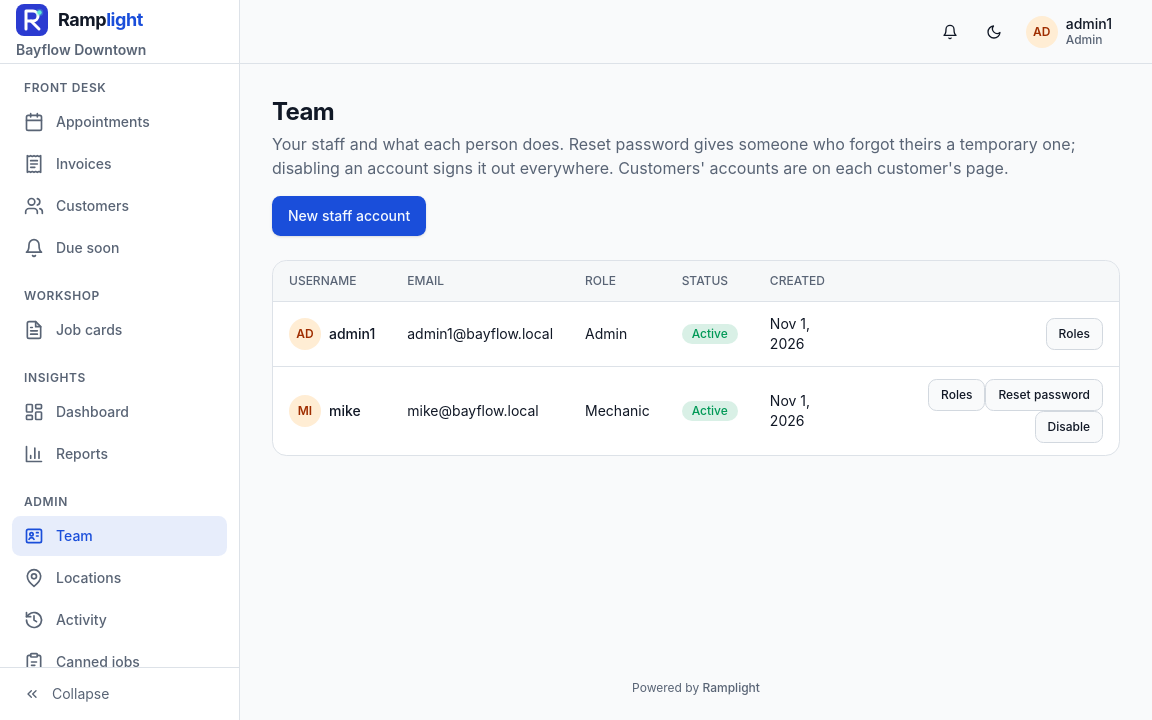
password resets › an admin resets a mechanic's password and sees the temporary one once
Click the button with aria-label "Reset password for mike" at (1044, 394), box [985,378,1103,410]
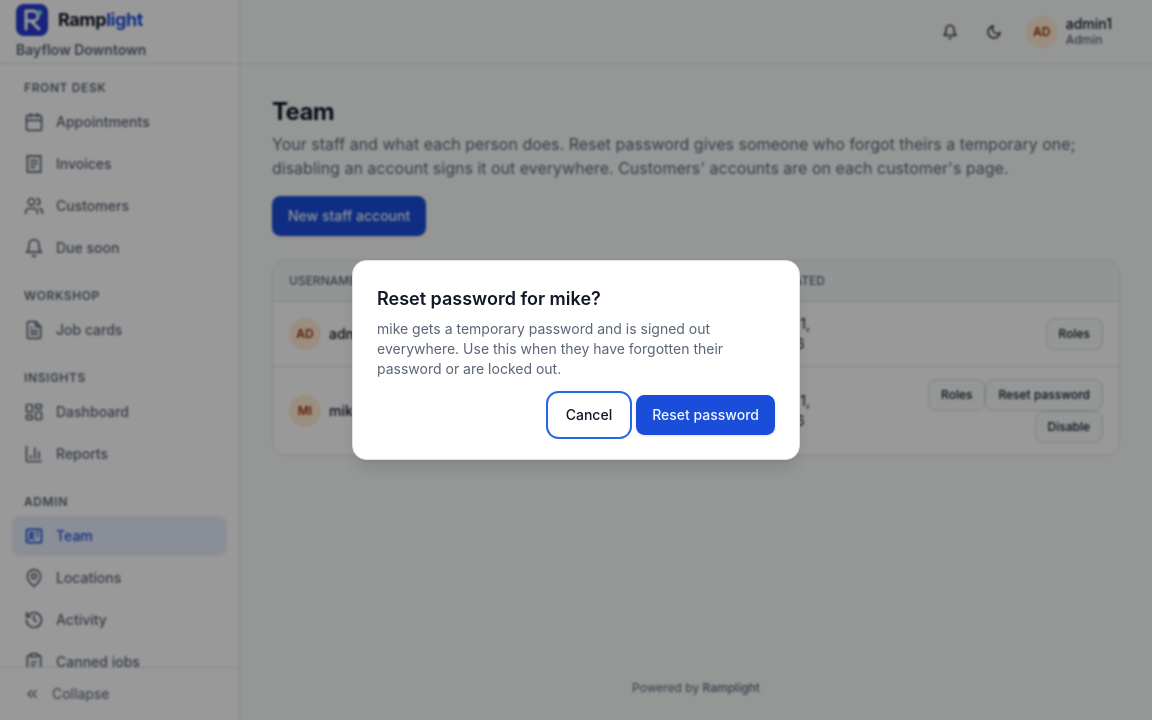
Click the button "Reset password" at (706, 415), box [636,395,775,435]
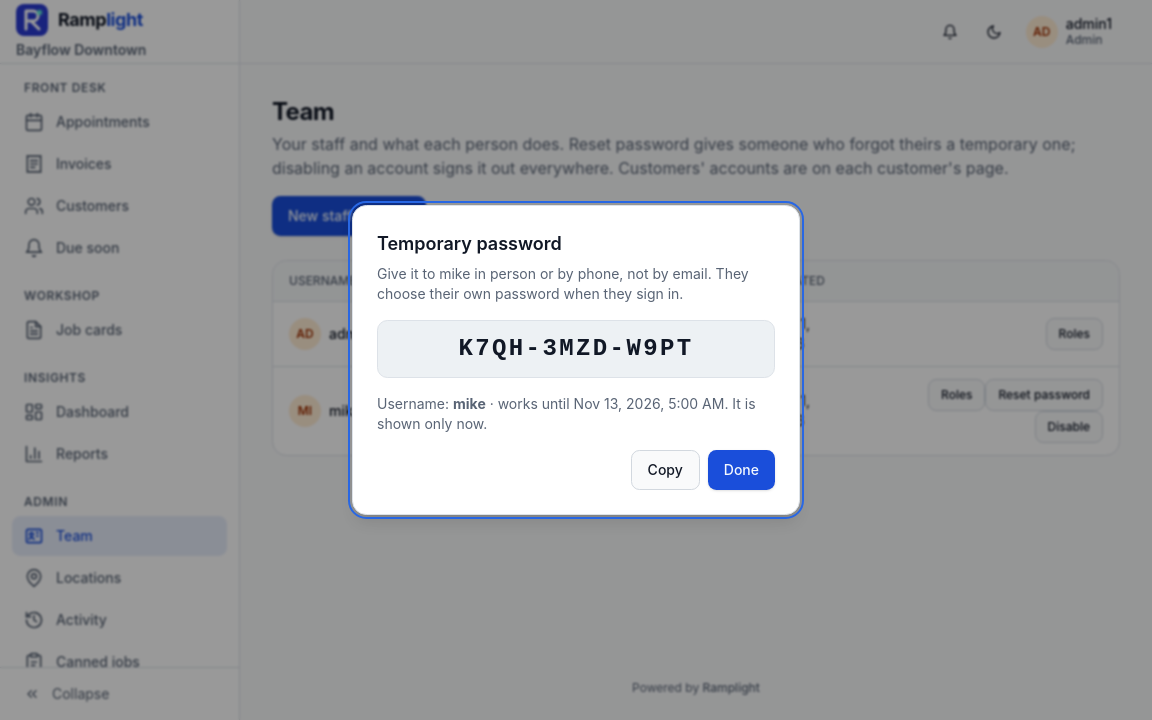
Now the text with test id "temporary-password" reads "K7QH-3MZD-W9PT", box [458,335,694,362]
Click the button "Done" at (741, 470), box [708,450,775,490]
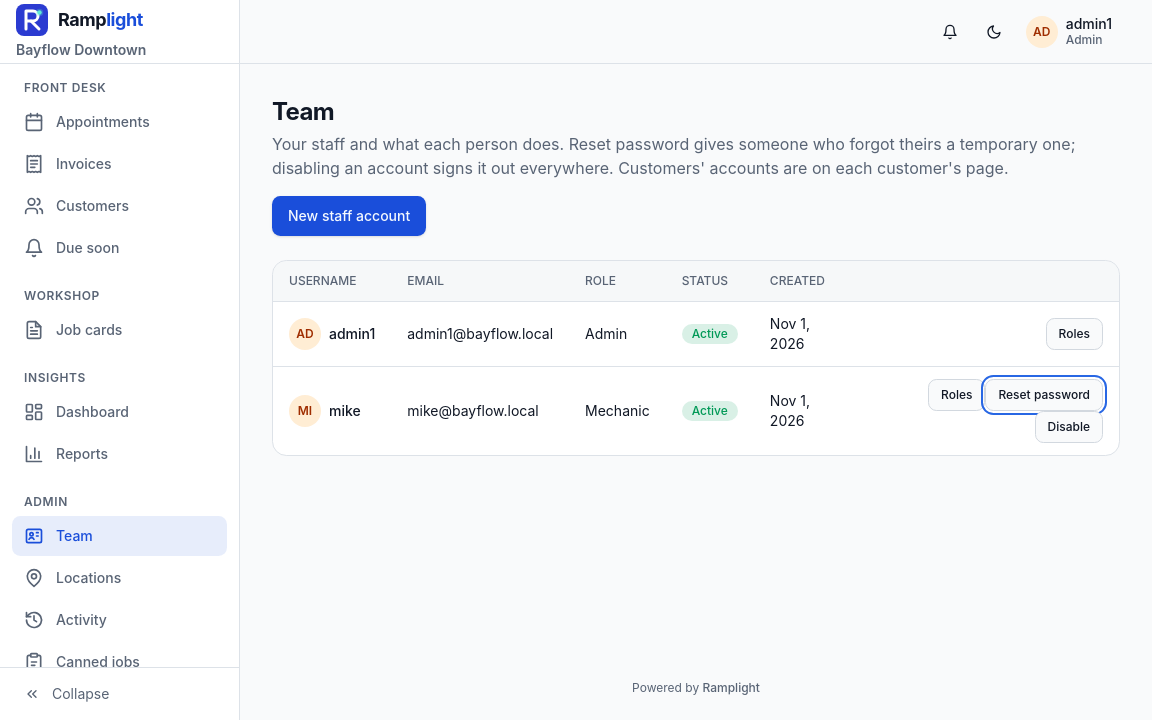
Now the text with test id "temporary-password" is gone
